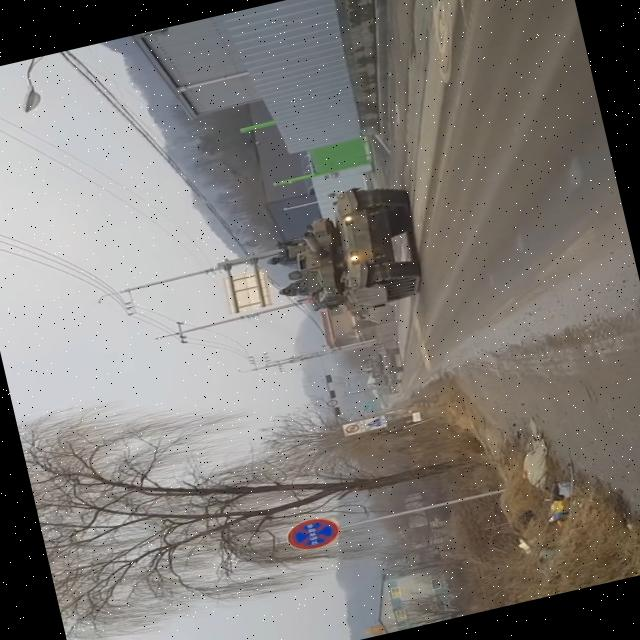korea tank: (252, 171, 438, 331)
